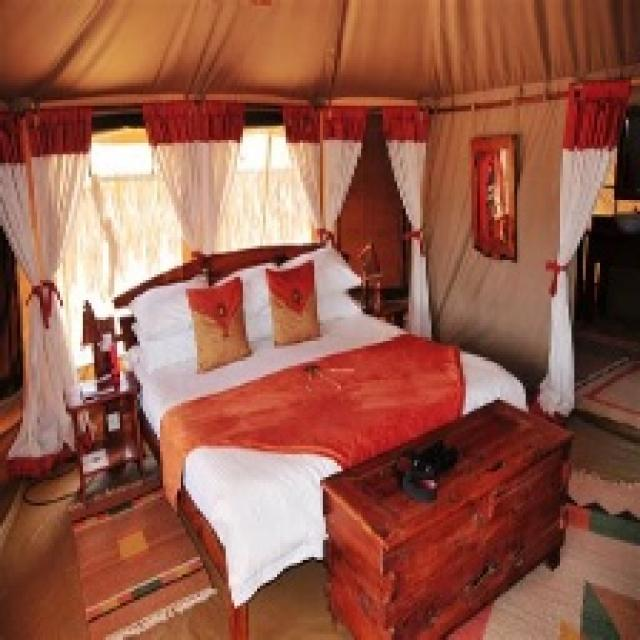Bed: (109, 229, 528, 637)
